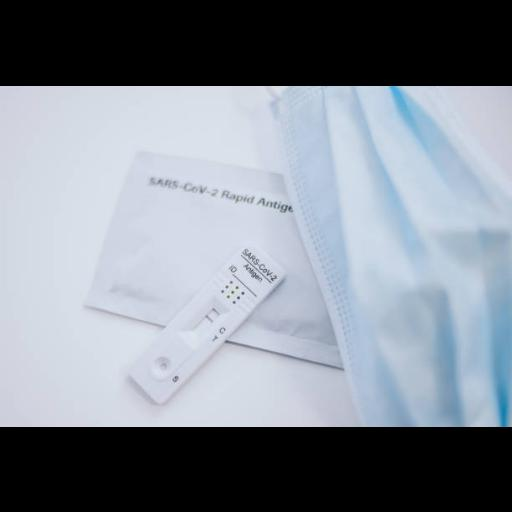Neg: (126, 241, 288, 406)
